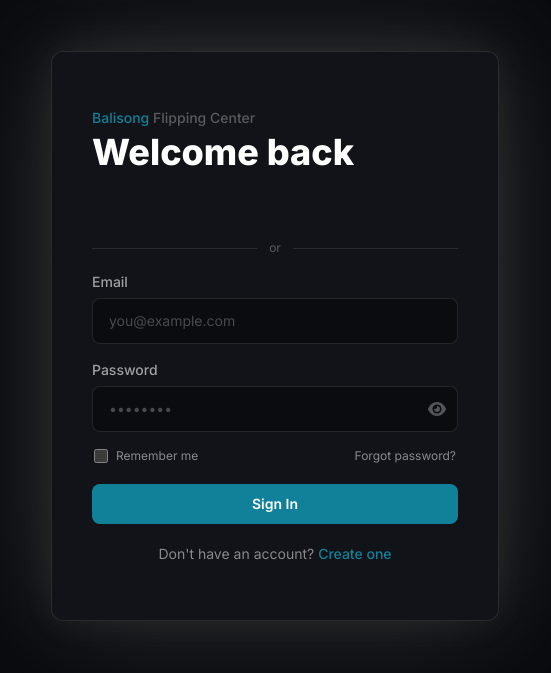
LoginForm › routes a password-related error to the password field
In the field with placeholder "you@example.com": (275, 321) [92,298,458,344], type "user@example.com"
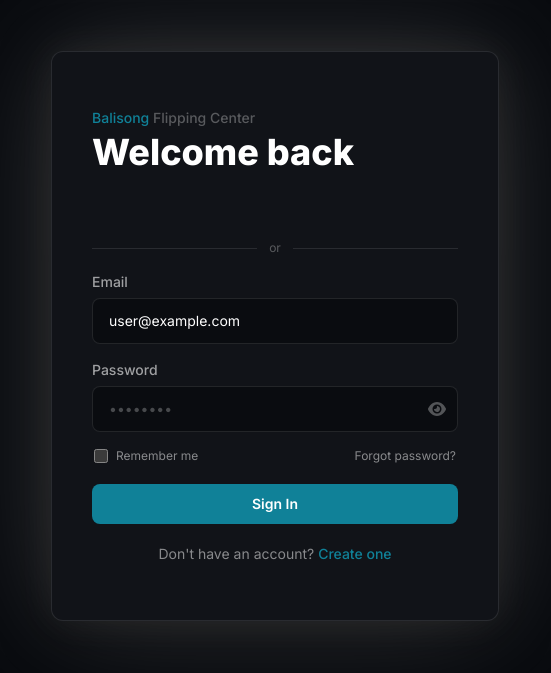
In the password field with placeholder "••••••••": (275, 409) [92,386,458,432], type "wrongpassword"
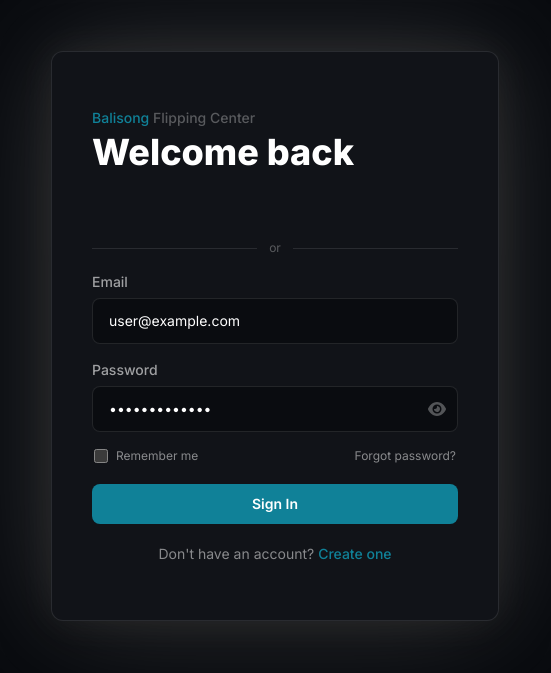
Click the button "Sign In": (275, 504) [92,484,458,524]
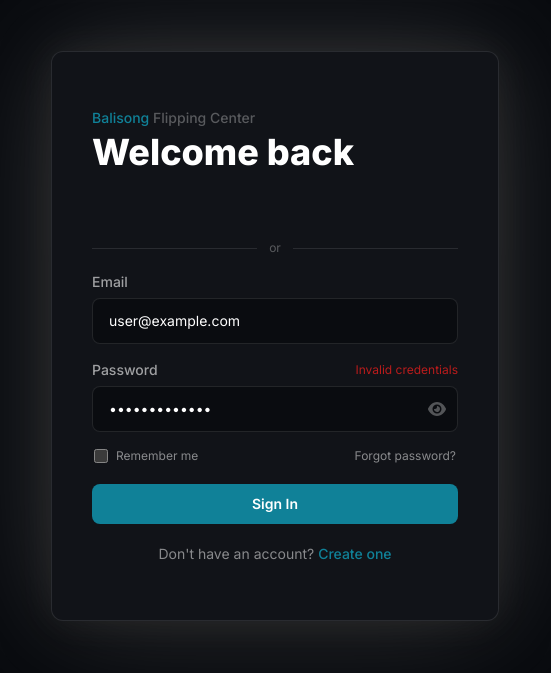
Check: the text "Invalid credentials" is shown, box [356,362,458,378]
